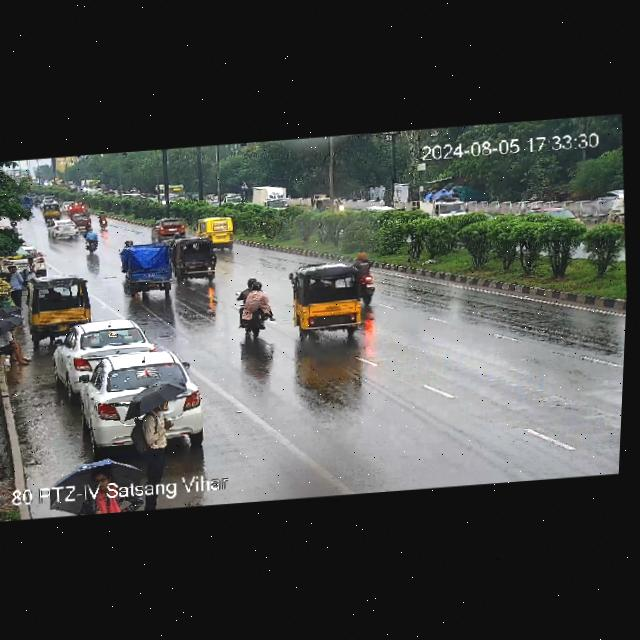bus: (193, 217, 238, 251), (156, 183, 187, 200)
car: (76, 343, 212, 438), (285, 259, 374, 345), (50, 317, 151, 384), (23, 273, 97, 338), (120, 241, 184, 298), (168, 236, 221, 281), (0, 245, 47, 276), (150, 216, 186, 239), (46, 217, 81, 240), (41, 203, 64, 219), (68, 201, 85, 214), (74, 215, 89, 227), (62, 200, 73, 211)
motorcycle: (232, 275, 281, 340), (345, 248, 386, 302), (76, 228, 100, 254), (120, 237, 134, 266), (99, 209, 107, 228)
person: (138, 399, 175, 479), (0, 317, 36, 367), (88, 471, 126, 515), (7, 263, 25, 306), (26, 256, 37, 276)
truck: (417, 185, 468, 217)
